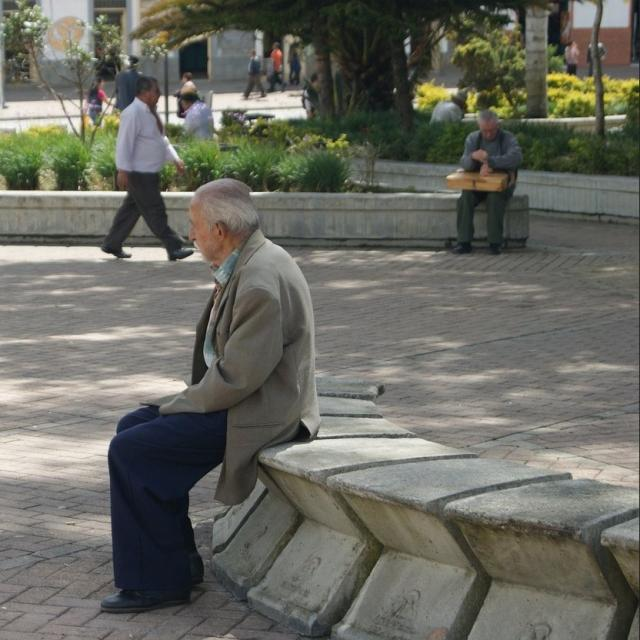sitting: (101, 179, 319, 612), (452, 110, 522, 254)
standing: (101, 75, 192, 261)
